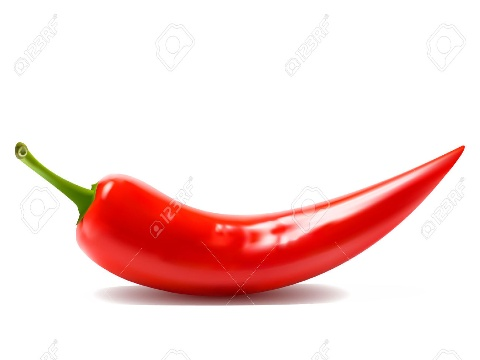Chilli: (7, 117, 470, 297)
